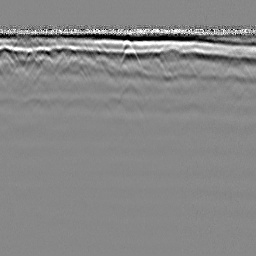cavity: (118, 46, 141, 69)
